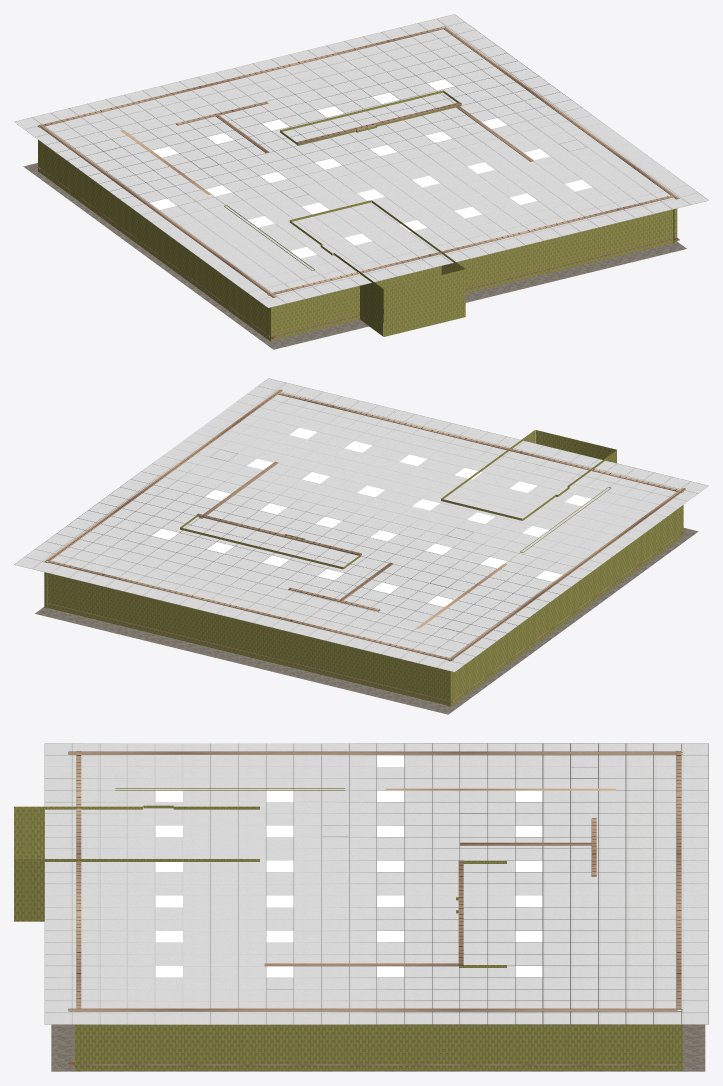
The model's file is cam.glb.
3 renders of one model, top to bottom at view 1: azimuth 30°, elevation 25°; view 2: azimuth 150°, elevation 25°; view 3: azimuth 270°, elevation 25°, orthographic. The views are drawn at different scales.
Parts seen in each view (by area): view 1: Object_19, Object_11, Object_16, Object_9, Object_17, Object_14, Object_9.001; view 2: Object_19, Object_11, Object_16, Object_9, Object_14, Object_17, Object_9.001; view 3: Object_19, Object_11, Object_16, Object_9, Object_17, Object_14, Object_9.001.
Boxes of the visible parts, x1,y1,x2,y2 form: Object_19: [14, 14, 708, 307]; Object_11: [38, 26, 677, 341]; Object_16: [15, 14, 708, 307]; Object_9: [37, 27, 679, 297]; Object_17: [149, 79, 592, 258]; Object_14: [23, 163, 686, 349]; Object_9.001: [37, 167, 679, 339]; Object_19: [14, 378, 708, 671]; Object_11: [44, 430, 683, 706]; Object_16: [14, 378, 708, 672]; Object_9: [46, 389, 685, 660]; Object_14: [35, 528, 698, 714]; Object_17: [151, 427, 591, 607]; Object_9.001: [48, 529, 686, 702]; Object_19: [45, 743, 708, 1024]; Object_11: [14, 752, 682, 1070]; Object_16: [44, 743, 708, 1024]; Object_9: [68, 751, 681, 1011]; Object_17: [155, 755, 542, 977]; Object_14: [51, 1024, 705, 1071]; Object_9.001: [68, 1062, 676, 1065].
Size of the model in its own units: 27.36 by 2.87 by 28.62.
7 materials, 6 textured.
